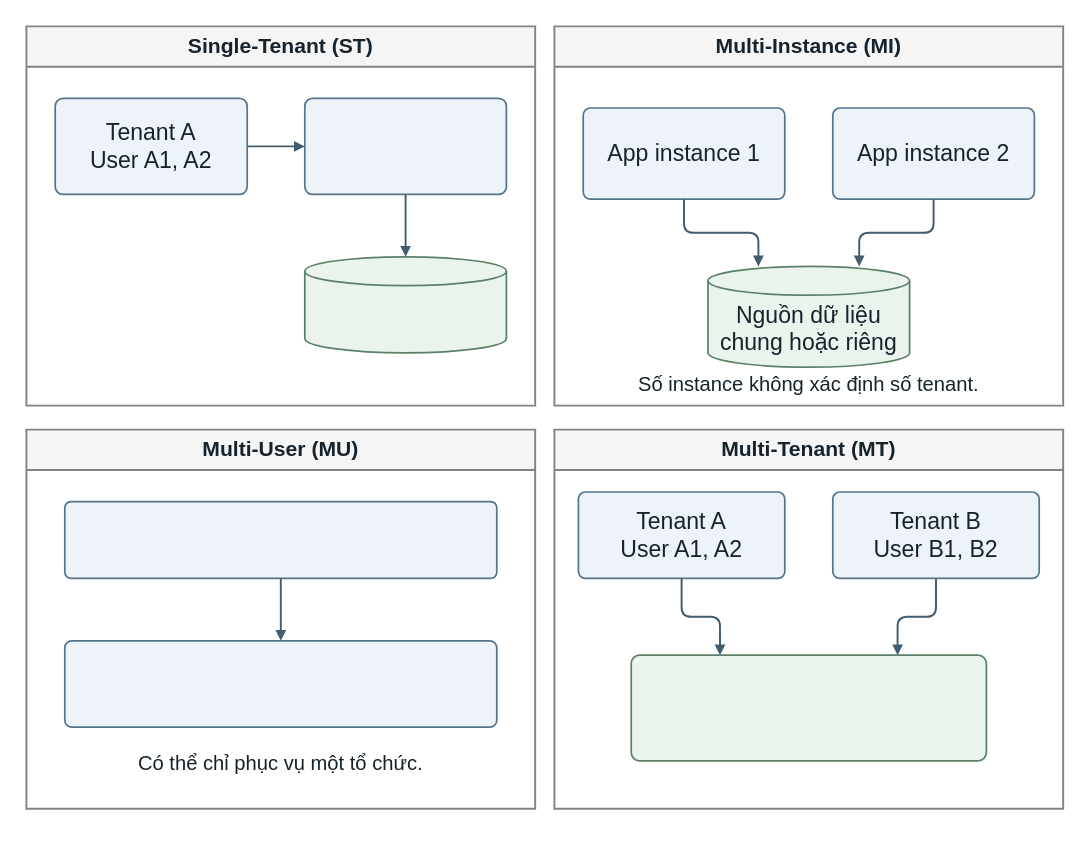
Image size: 1089x849. Some labels were removed from this diagram. The centre of each missing label's shape, as x and y in pixels:
App dành riêng A: (x=405, y=146)
App dùng chung Dữ liệu và cấu hình theo tenant: (x=808, y=707)
DB A: (x=405, y=304)
User 1, User 2, User 3: (x=280, y=539)
Ứng dụng phục vụ nhiều user: (x=280, y=683)
